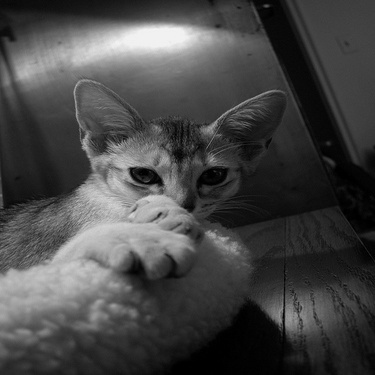cat: (7, 76, 290, 282)
